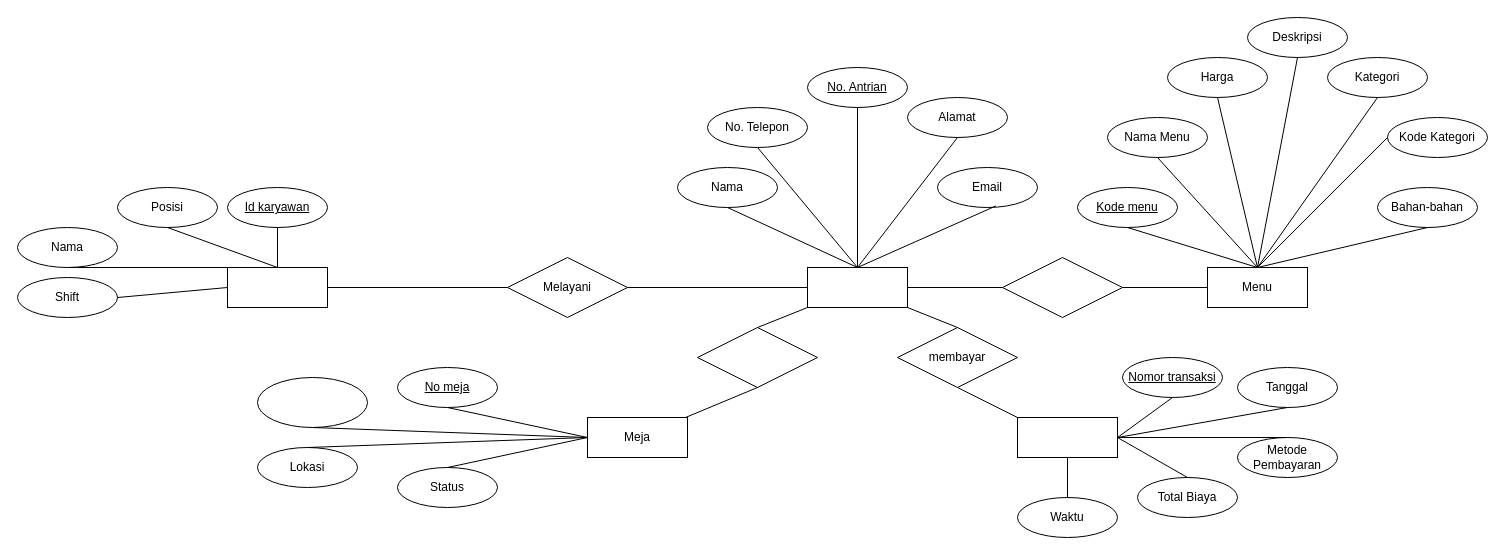
Image size: 1505x555. Some labels were removed from this diagram. The shapes that lost their labels are listed below. From the top down, each one's centre as x and y in pixels, then its label:
[277,287]: Karyawan
[857,287]: Pelanggan
[1062,287]: Memesan
[757,357]: Memilih
[312,402]: Kapasitas (jumlah kursi)
[1067,437]: Transaksi
